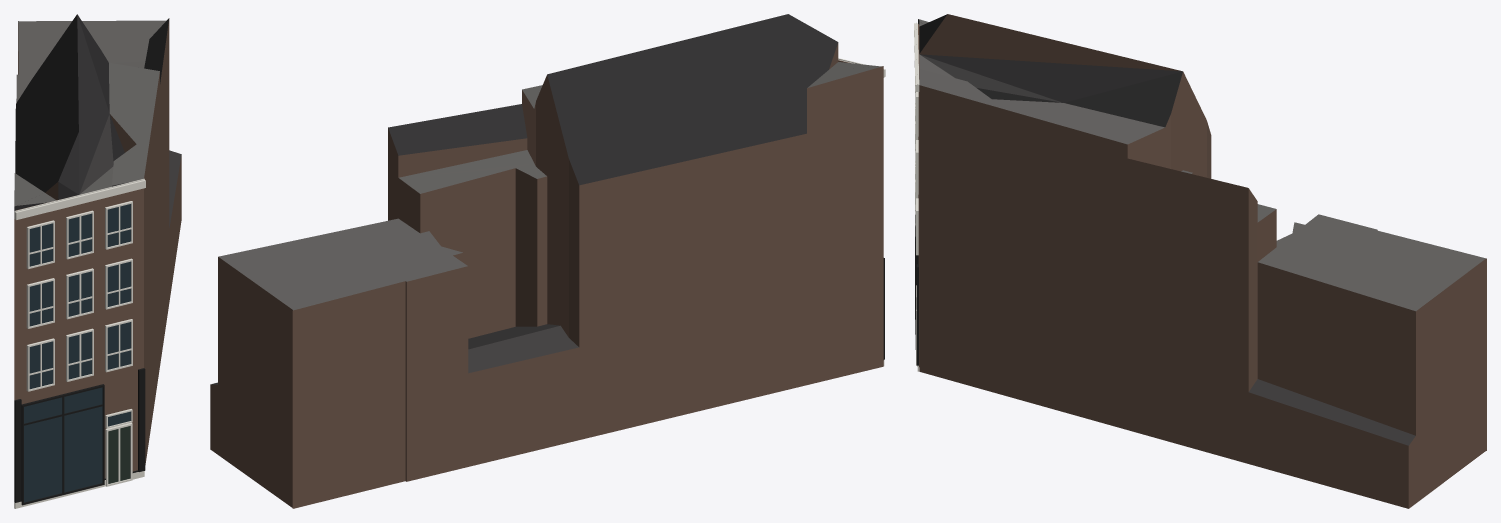
3 renders of one model, left to right at view 1: azimuth 30°, elevation 25°; view 2: azimuth 150°, elevation 25°; view 3: azimuth 270°, elevation 25°, orthographic. The views are drawn at different scales.
Parts seen in each view (by area): view 1: spec-0363100012181817; view 2: spec-0363100012181817; view 3: spec-0363100012181817.
Boxes of the visible parts, <box> form: spec-0363100012181817: <box>14,14,181,508</box>; spec-0363100012181817: <box>210,14,885,508</box>; spec-0363100012181817: <box>914,14,1486,508</box>.
Bounding box in the file's own units: 20.99 × 16.45 × 25.58.
